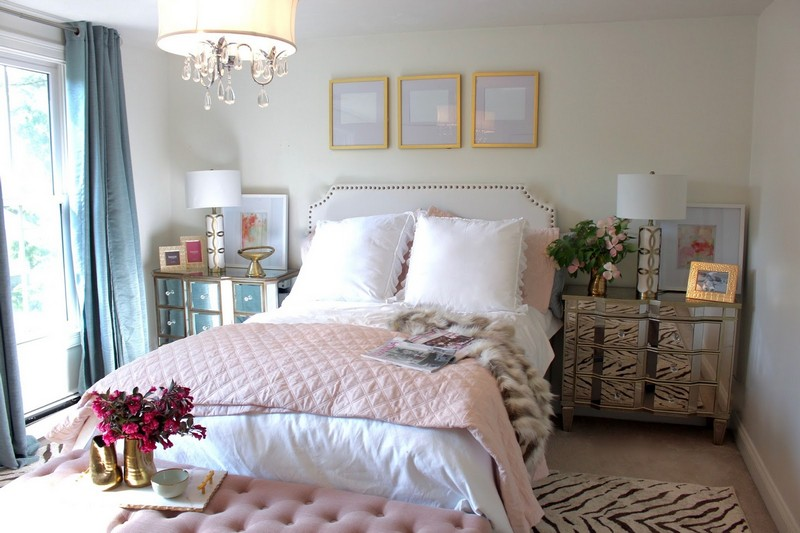bed: (168, 196, 554, 522)
lamp: (612, 166, 685, 308), (184, 168, 247, 280)
stool: (563, 293, 735, 439), (153, 265, 282, 343)
